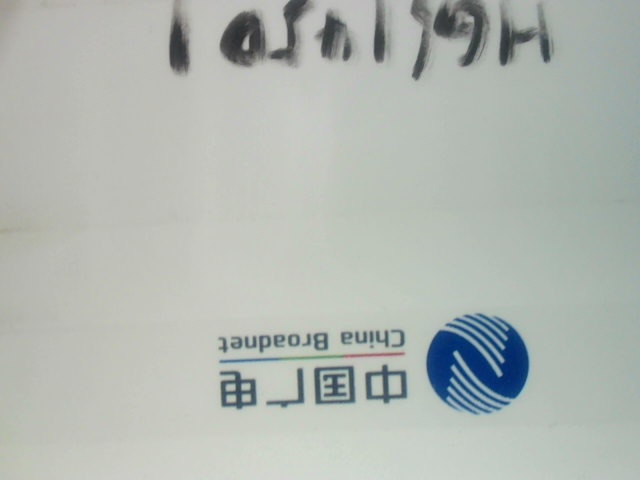AW_ChinaBroadNet: (192, 279, 540, 415)
